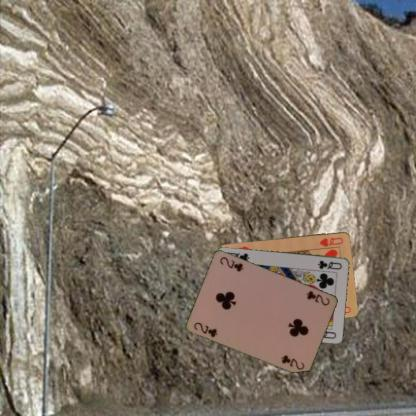2c: (304, 288, 331, 308), (191, 320, 219, 338)
Qc: (316, 258, 343, 270)
Qh: (317, 234, 344, 248)
